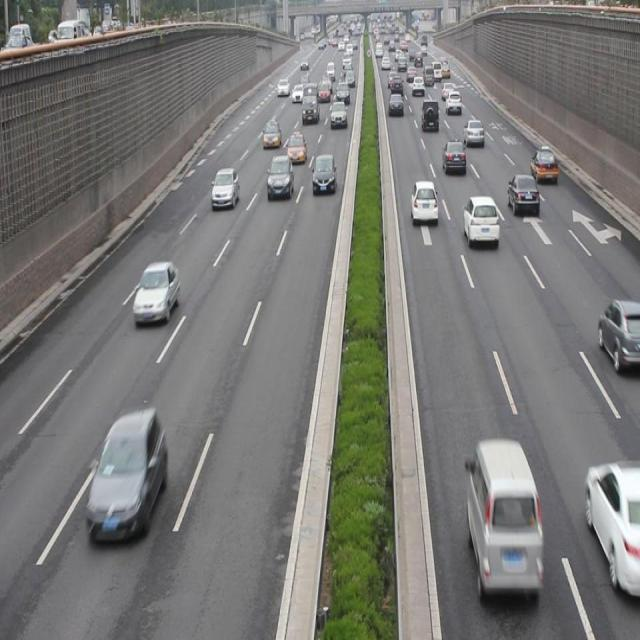car: (88, 407, 168, 541), (584, 458, 640, 592), (597, 297, 640, 367), (133, 260, 180, 324), (462, 194, 498, 244), (506, 172, 538, 218), (268, 155, 294, 201), (211, 167, 240, 208), (528, 145, 558, 183), (410, 180, 436, 222), (441, 137, 466, 178), (311, 154, 336, 194), (420, 97, 440, 134), (462, 116, 484, 148), (285, 132, 306, 164), (262, 120, 281, 149), (329, 100, 346, 128)
truck: (464, 435, 542, 593)
